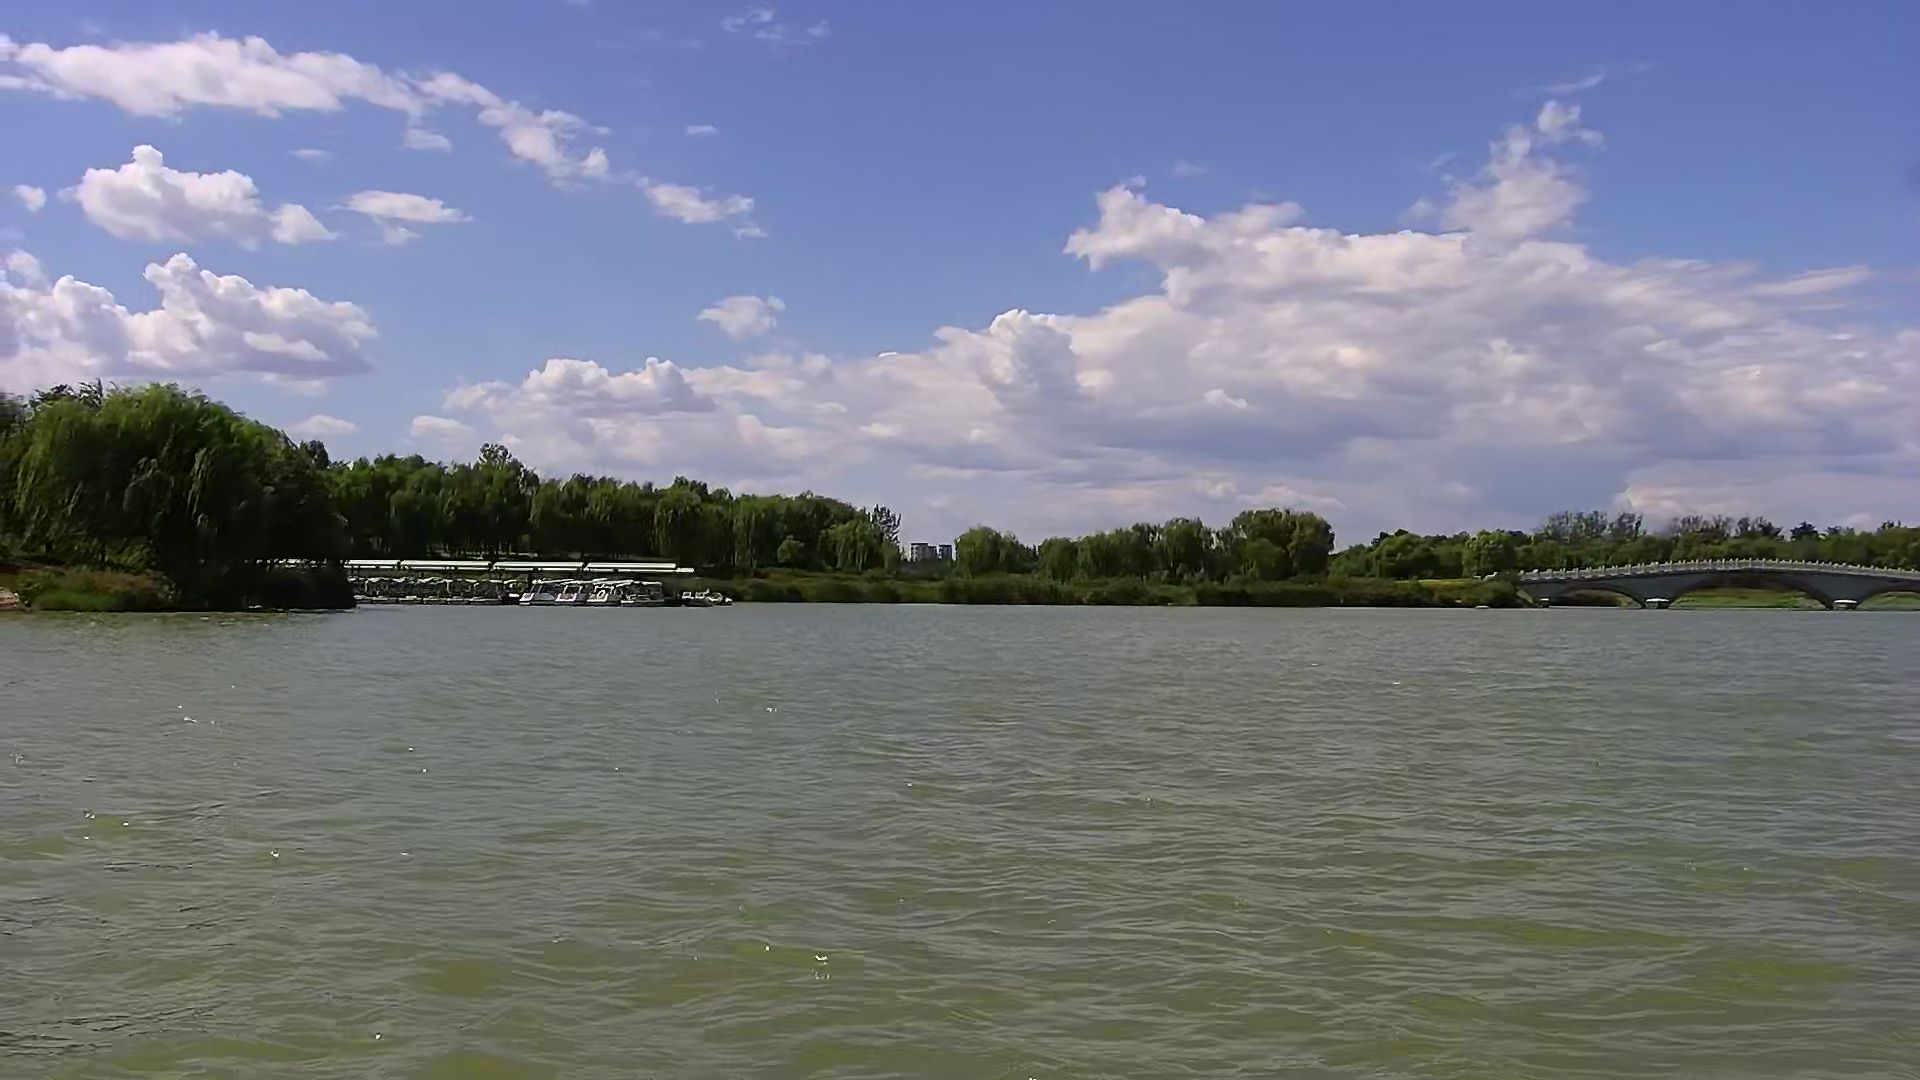bridge: (1506, 553, 1911, 621)
harbor: (334, 549, 729, 616)
